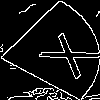X: (25, 25, 100, 80)
